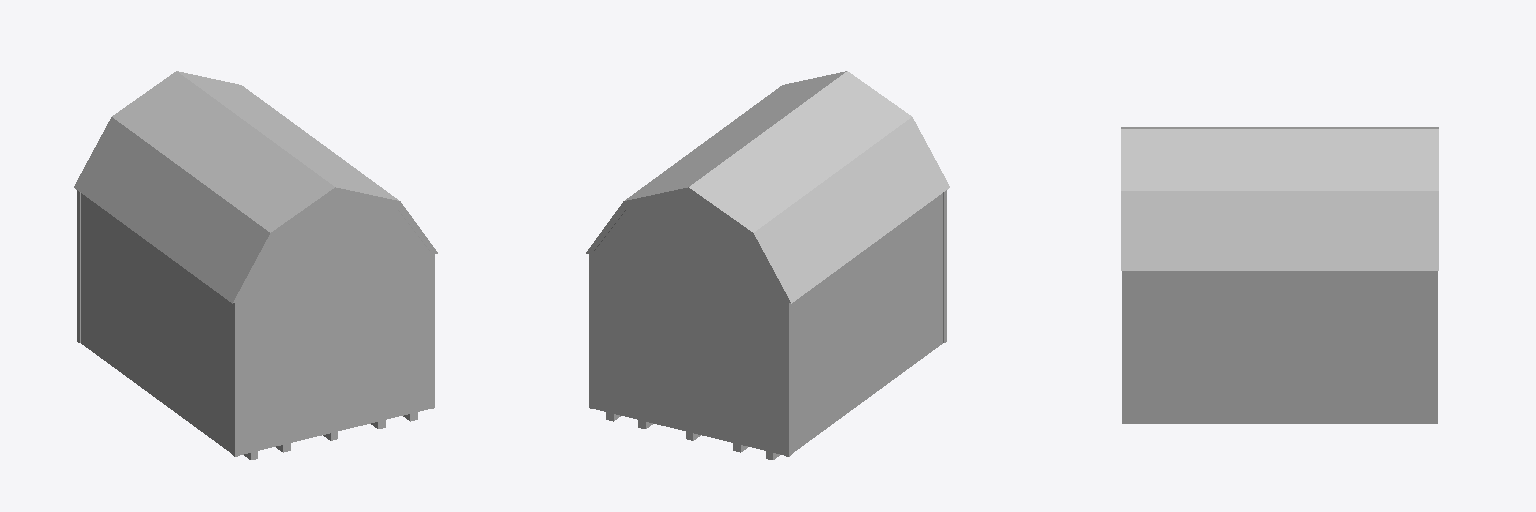
The model's file is Dutch Barn_8x12.obj.
The picture shows the model from 3 angles: view 1: azimuth 30°, elevation 25°; view 2: azimuth 150°, elevation 25°; view 3: azimuth 270°, elevation 25°; orthographic projection.
Parts seen in each view (by area): view 1: Dutch Barn_8x12.obj; view 2: Dutch Barn_8x12.obj; view 3: Dutch Barn_8x12.obj.
Part boxes in pixels (bbox=[...]): Dutch Barn_8x12.obj: bbox=[74, 71, 437, 459]; Dutch Barn_8x12.obj: bbox=[586, 71, 949, 459]; Dutch Barn_8x12.obj: bbox=[1121, 127, 1438, 423].
Bounding box in the file's own units: 2.78 × 3.27 × 3.71.